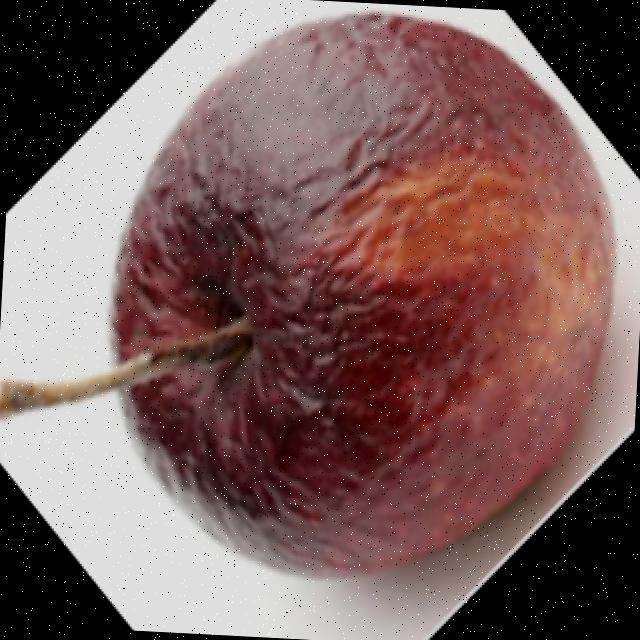overripe: (88, 0, 633, 587)
